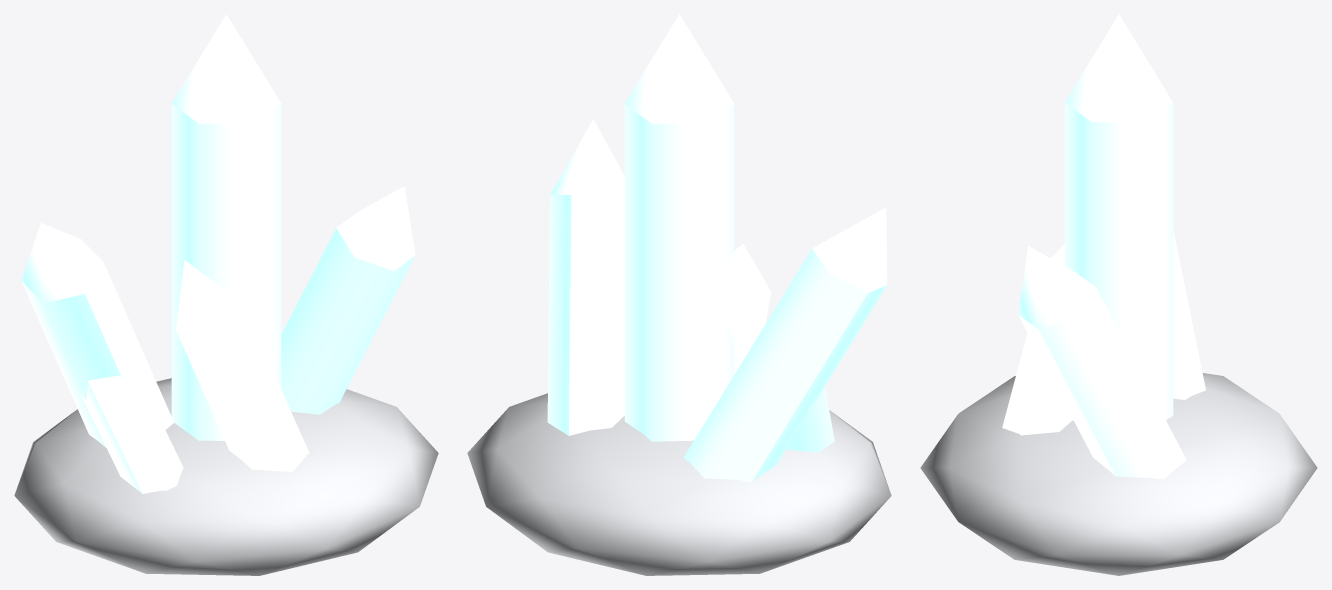
The model's file is ice_crystal.glb.
The picture shows the model from 3 angles, left to right: view 1: azimuth 30°, elevation 25°; view 2: azimuth 150°, elevation 25°; view 3: azimuth 270°, elevation 25°; orthographic projection.
Parts seen in each view (by area): view 1: ice_crystal; view 2: ice_crystal; view 3: ice_crystal.
Part boxes in pixels (x1=…): ice_crystal: x1=14, y1=14, x2=438, y2=575; ice_crystal: x1=467, y1=14, x2=891, y2=575; ice_crystal: x1=920, y1=14, x2=1317, y2=575.
Bounding box in the file's own units: 0.7147 × 0.937 × 0.66.
